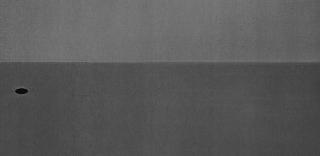punching hole: (12, 85, 34, 95)
welding line: (1, 58, 320, 68)
